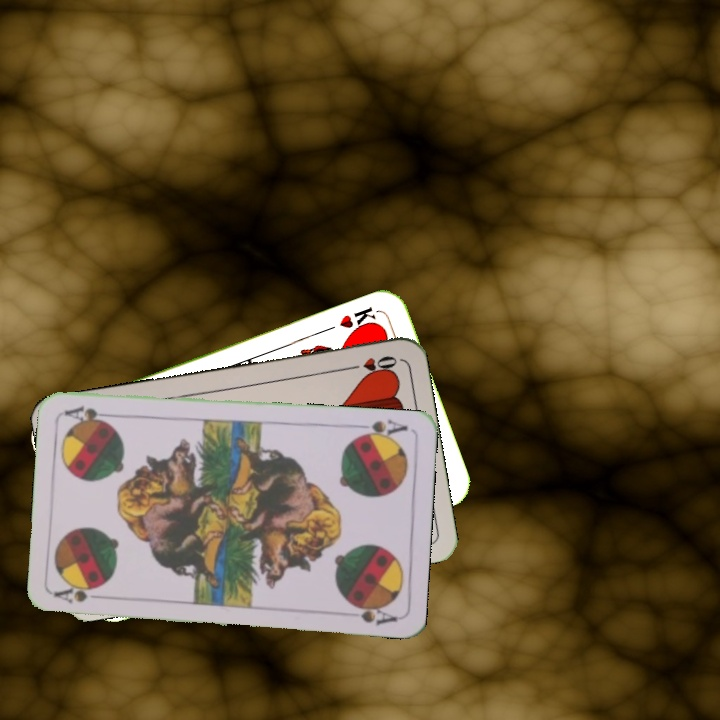HK: (335, 302, 381, 337)
HO: (342, 351, 400, 377)
SA: (351, 416, 410, 443), (51, 583, 110, 606)
